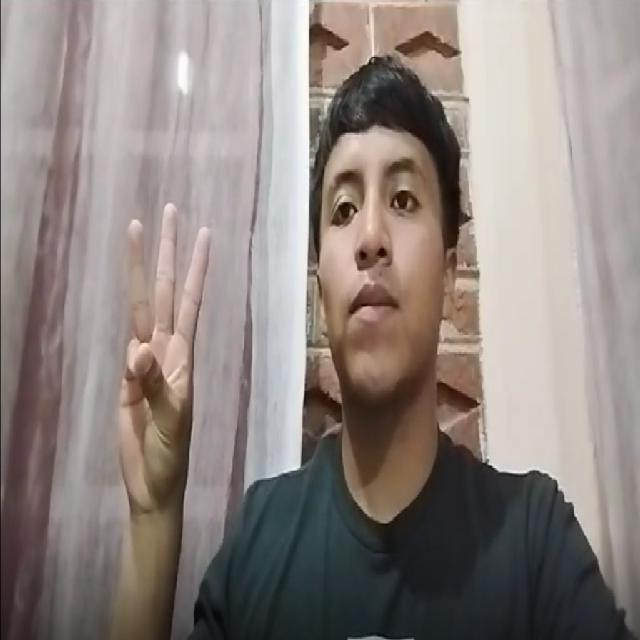W: (82, 197, 232, 524)
